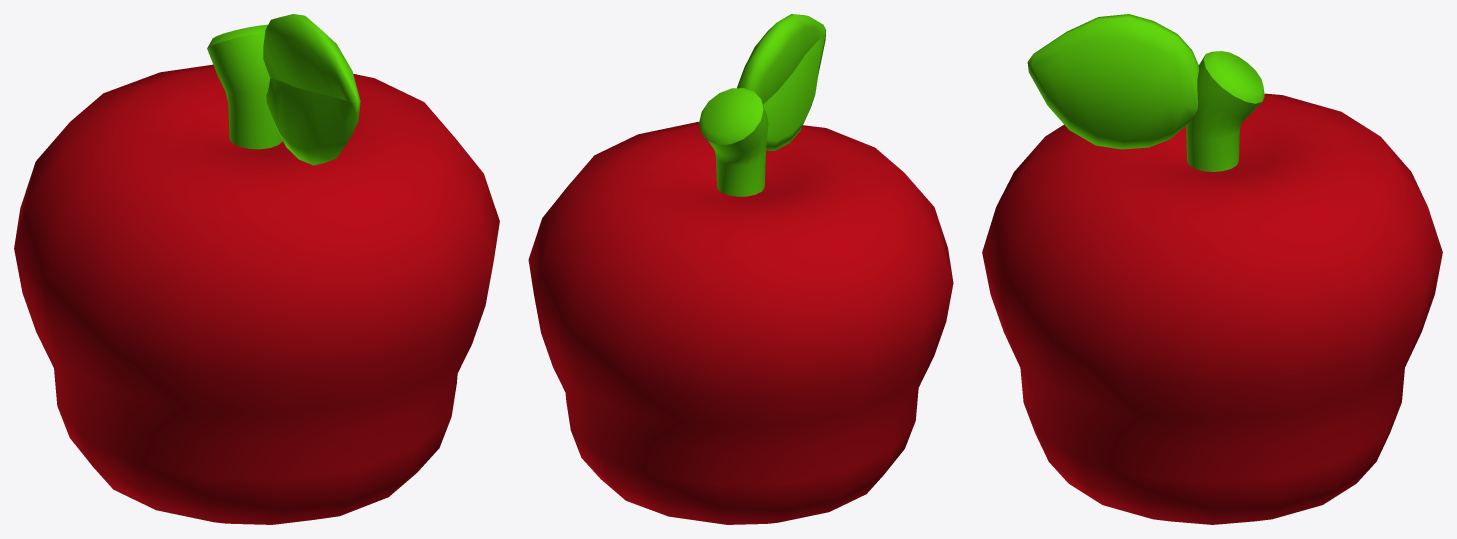
The model's file is Apple.fbx.
The picture shows the model from 3 angles, left to right: view 1: azimuth 30°, elevation 25°; view 2: azimuth 150°, elevation 25°; view 3: azimuth 270°, elevation 25°; orthographic projection. The views are drawn at different scales.
Parts seen in each view (by area): view 1: Apple_V1_00; view 2: Apple_V1_00; view 3: Apple_V1_00.
Part boxes in pixels (bbox=[...]): Apple_V1_00: bbox=[14, 14, 499, 524]; Apple_V1_00: bbox=[528, 14, 953, 524]; Apple_V1_00: bbox=[982, 14, 1442, 524].
Size of the model in its own units: 3114 by 3494 by 3117.
